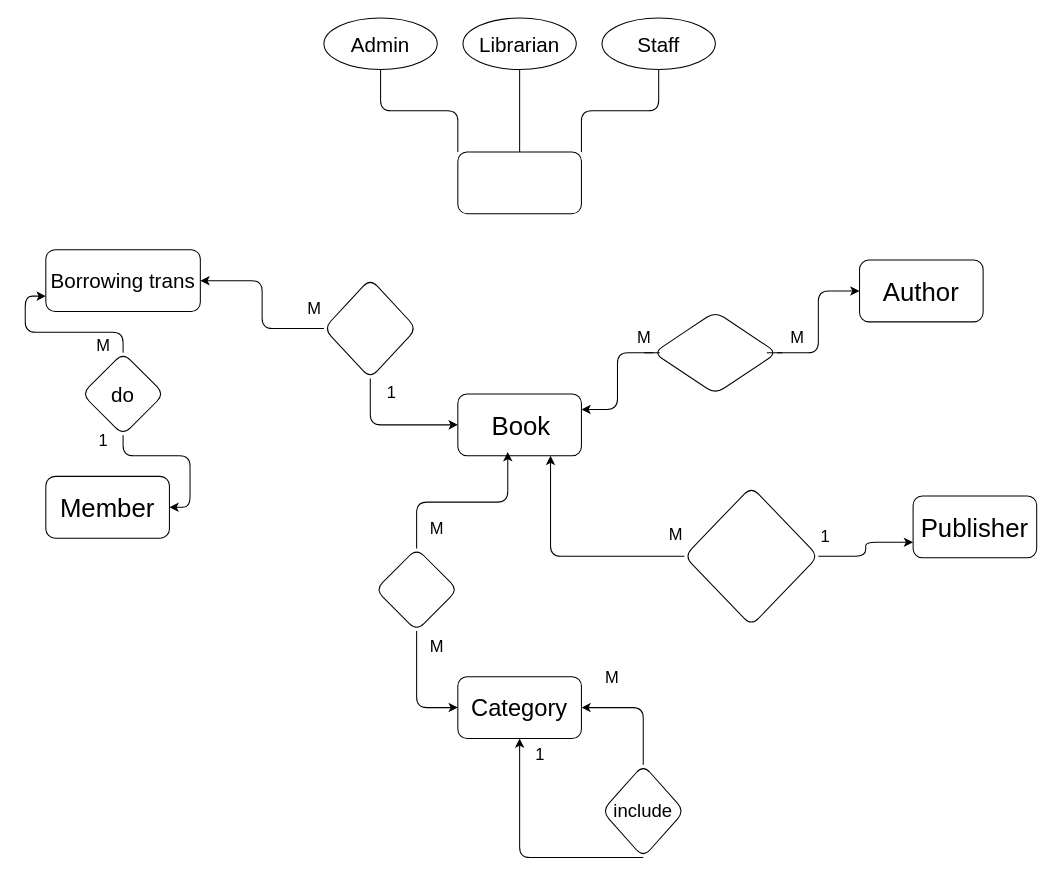
The diagram is 1055 pixels wide and 884 high, and some of its shapes have lost their labels. Here are the shapes that lost their labels. From the top down, the box of each, then its label:
(457, 151, 581, 214): SysUser
(323, 278, 417, 379): own
(653, 311, 777, 394): BOOK_AUTHOR
(683, 486, 818, 626): Published by
(374, 547, 458, 631): belong
